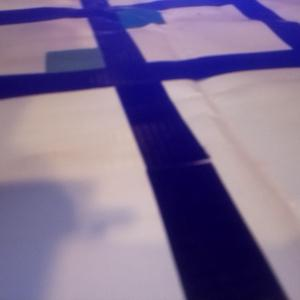bottom_right: (92, 7, 166, 28)
top_left: (44, 46, 137, 84)
